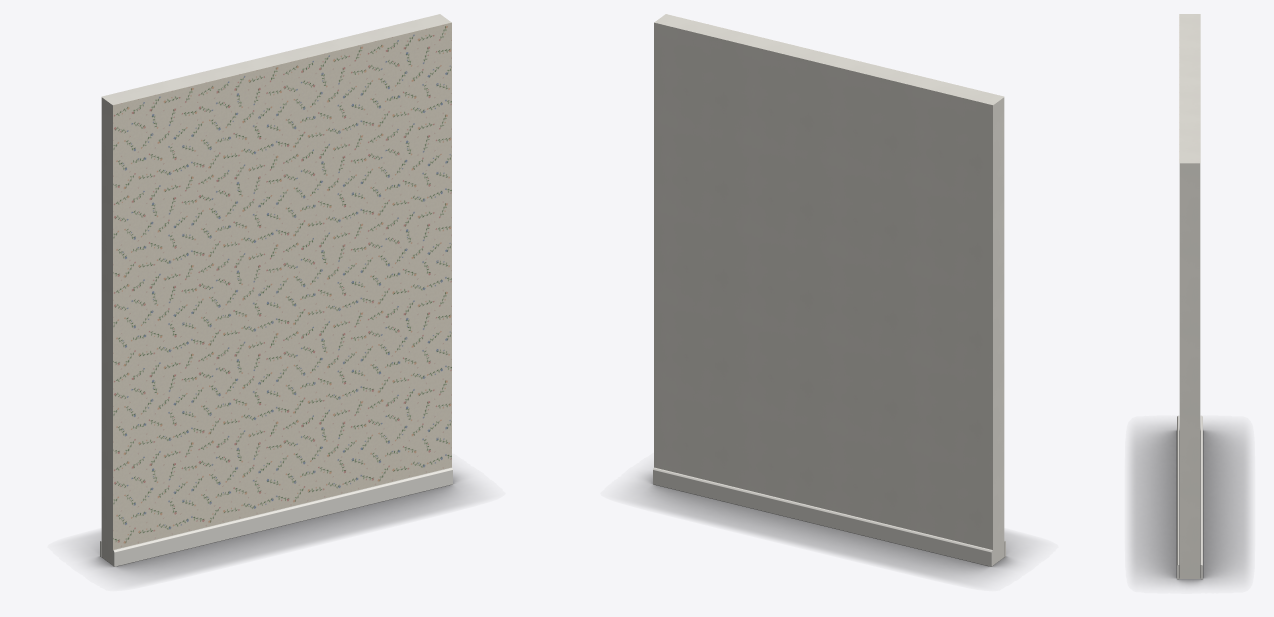
File: wall_paper.glb
The picture shows the model from 3 angles, left to right: view 1: azimuth 30°, elevation 25°; view 2: azimuth 150°, elevation 25°; view 3: azimuth 270°, elevation 25°; orthographic projection. The views are drawn at different scales.
Parts seen in each view (by area): view 1: wall_paper_LOD0, wall_paper_Shadow; view 2: wall_paper_LOD0, wall_paper_Shadow; view 3: wall_paper_Shadow, wall_paper_LOD0.
Part boxes in pixels (x1=…): wall_paper_LOD0: x1=100, y1=14, x2=452, y2=566; wall_paper_Shadow: x1=81, y1=471, x2=471, y2=580; wall_paper_LOD0: x1=653, y1=14, x2=1005, y2=566; wall_paper_Shadow: x1=634, y1=471, x2=1024, y2=580; wall_paper_Shadow: x1=1131, y1=424, x2=1248, y2=585; wall_paper_LOD0: x1=1177, y1=14, x2=1202, y2=579.
Size of what is drawn, in the model's own units: 2.64 by 2.6 by 0.788.
4 materials, 3 textured.
